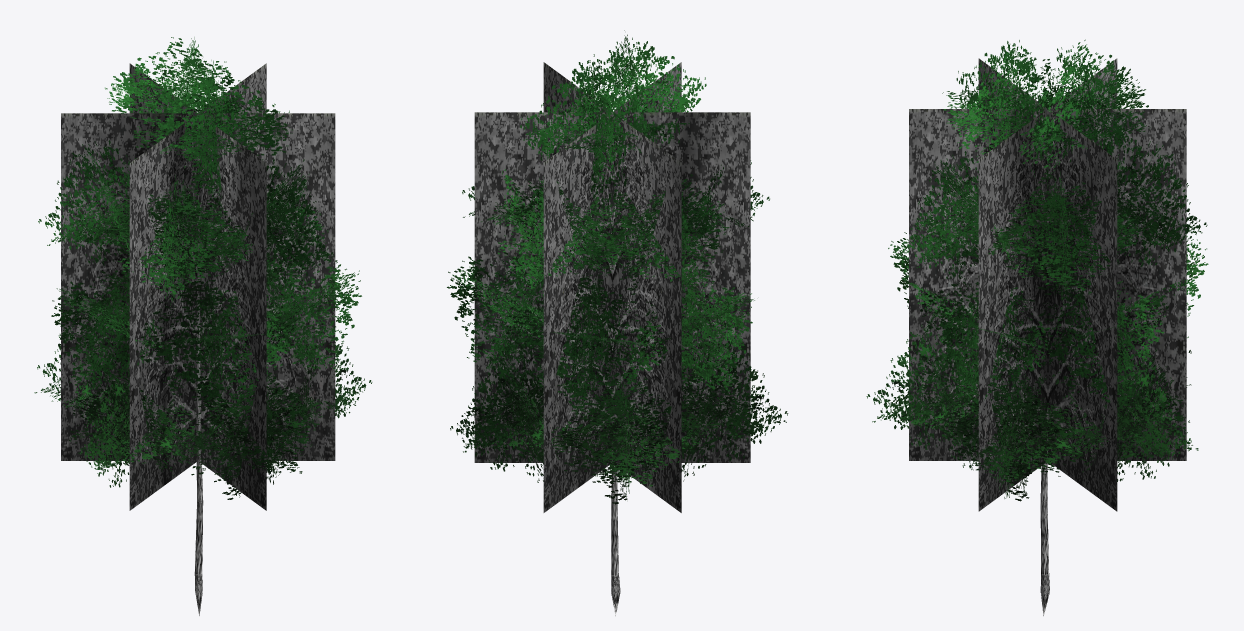
File: berk_1.fbx
3 renders of one model, left to right at view 1: azimuth 30°, elevation 25°; view 2: azimuth 150°, elevation 25°; view 3: azimuth 270°, elevation 25°, orthographic.
Visible parts, largest first — view 1: berk_1; view 2: berk_1; view 3: berk_1.
Boxes of the visible parts, box(x1,y1,x2,y2) form: berk_1: box(34, 37, 372, 615); berk_1: box(447, 30, 788, 616); berk_1: box(866, 39, 1208, 615).
Bounding box in the file's own units: 408 × 693 × 406.
2 materials, 2 textured.
